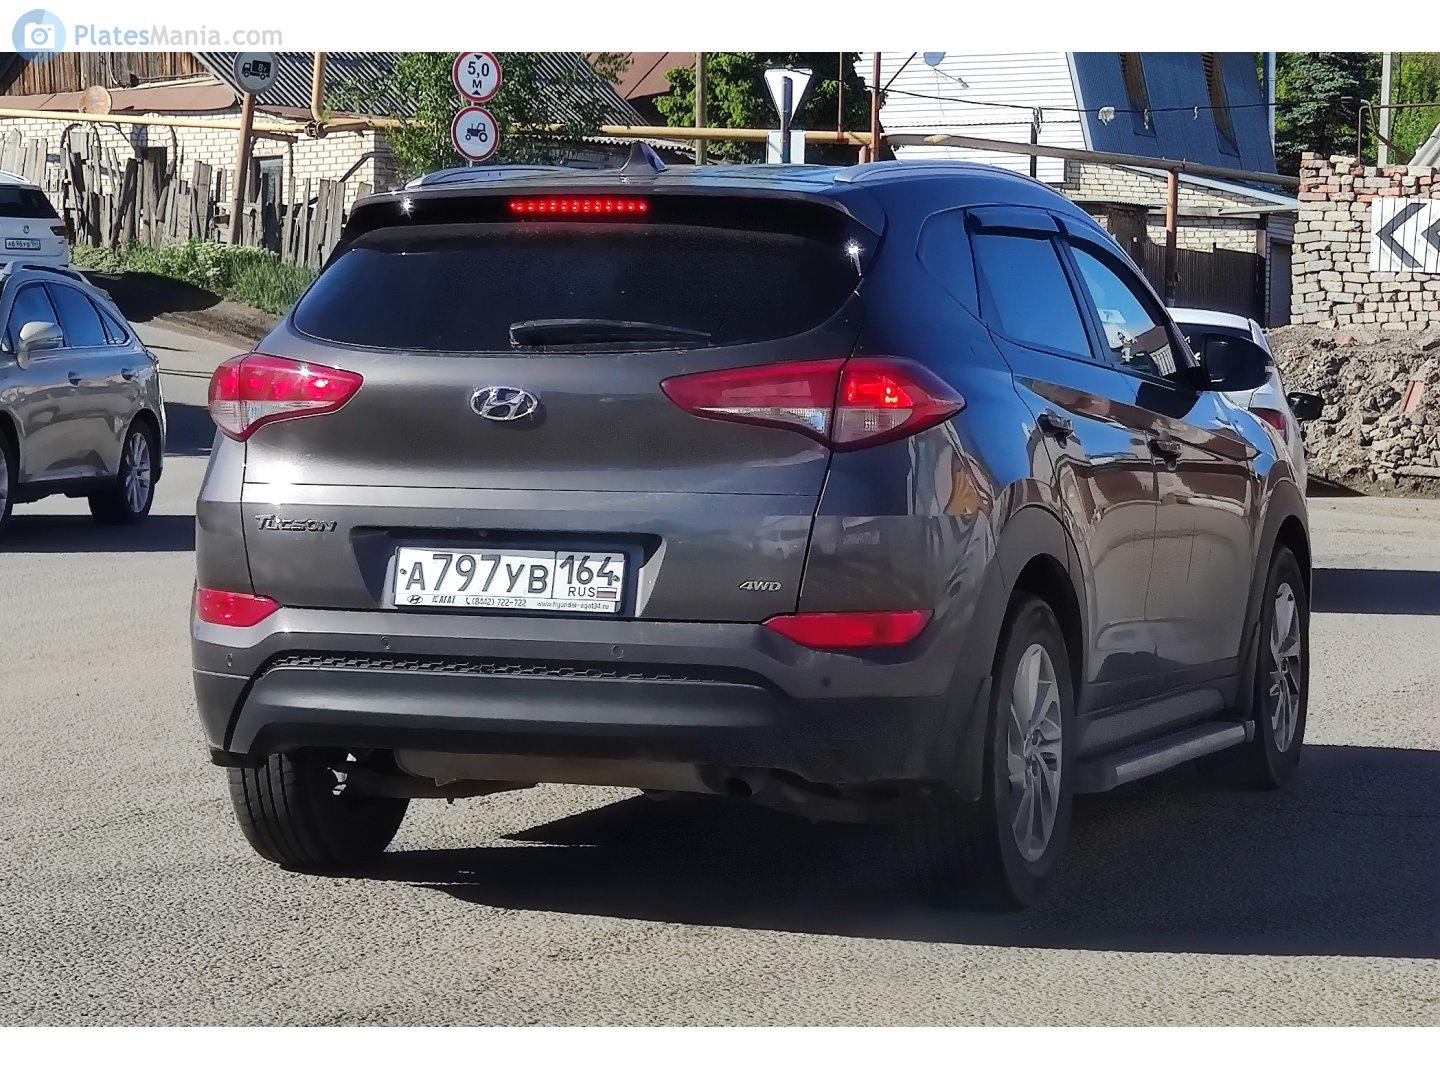license-plateSW: (392, 551, 623, 603)
